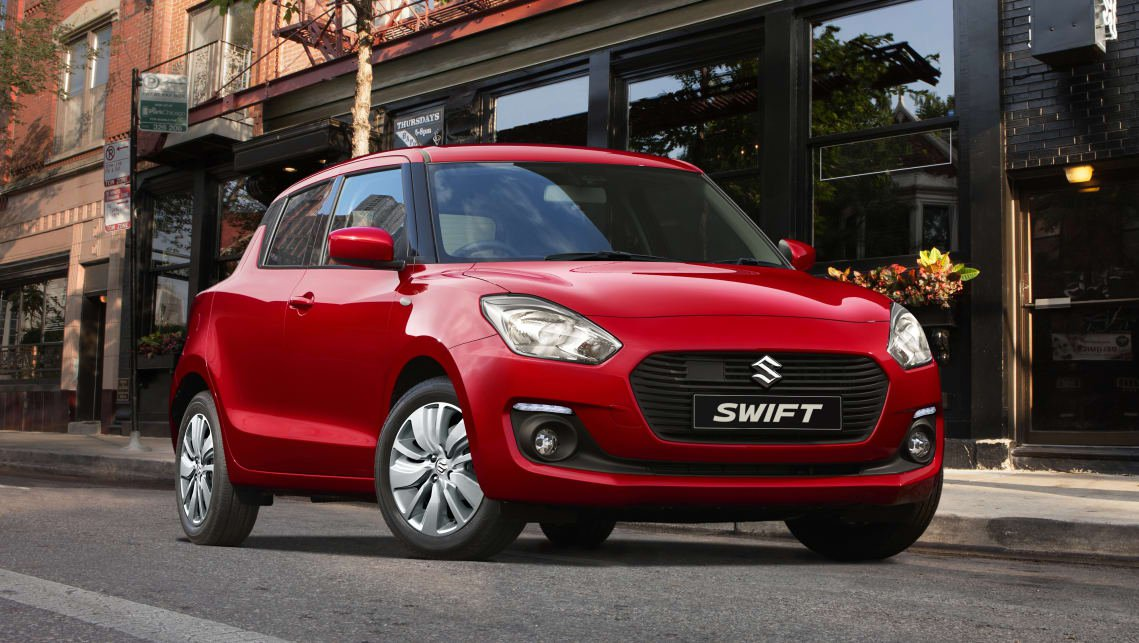car: (174, 142, 952, 563)
